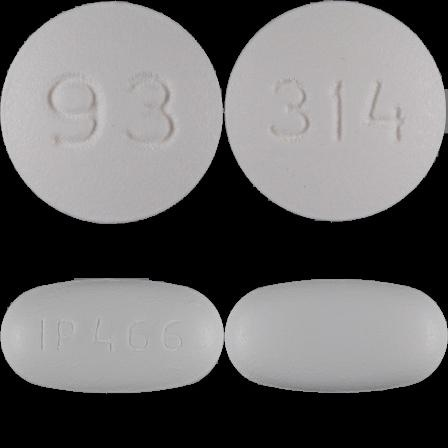35356-696: (0, 0, 224, 224)
